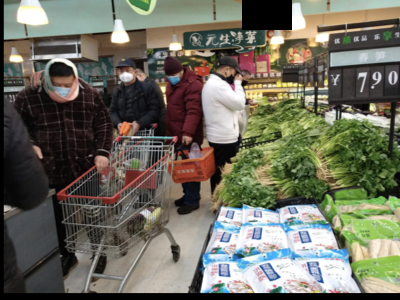with_mask: (48, 79, 75, 102), (118, 67, 133, 85), (164, 72, 180, 86), (225, 71, 236, 85), (241, 76, 250, 88)
